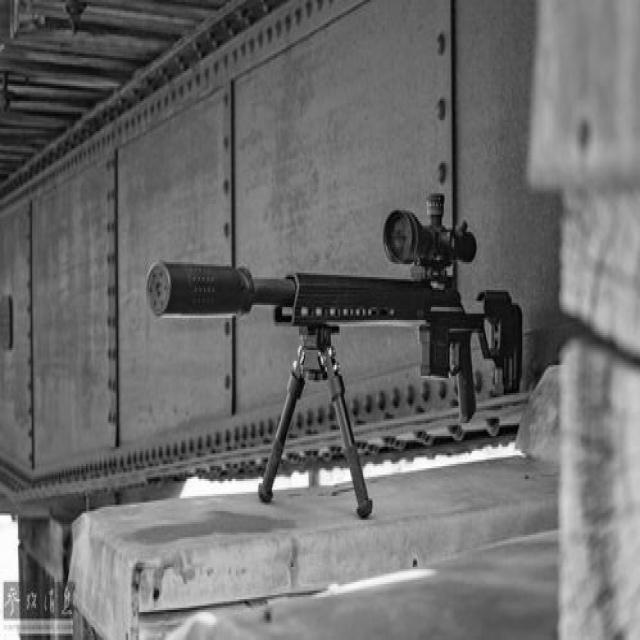gun: (145, 192, 523, 518)
